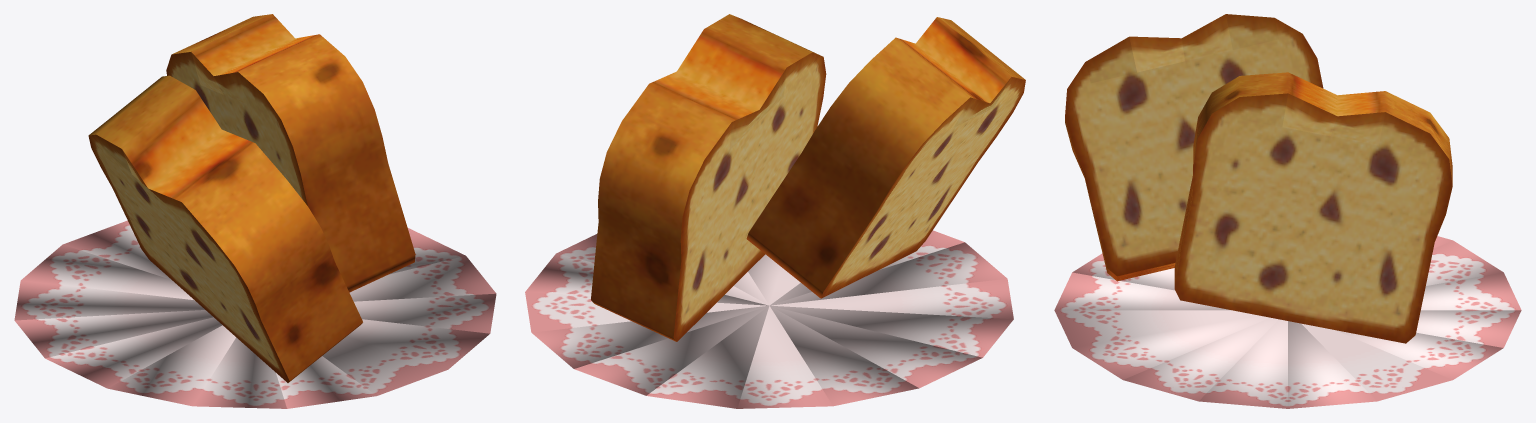
File: panque.glb
3 renders of one model, left to right at view 1: azimuth 30°, elevation 25°; view 2: azimuth 150°, elevation 25°; view 3: azimuth 270°, elevation 25°, orthographic. The views are drawn at different scales.
Visible parts, largest first — view 1: chocobananapoundcake_ma, lace03_ma; view 2: chocobananapoundcake_ma, lace03_ma; view 3: chocobananapoundcake_ma, lace03_ma.
Part boxes in pixels (x1,y1,x2,y2): chocobananapoundcake_ma: [88, 14, 415, 382]; lace03_ma: [14, 220, 496, 408]; chocobananapoundcake_ma: [591, 14, 1025, 341]; lace03_ma: [525, 230, 1013, 408]; chocobananapoundcake_ma: [1065, 14, 1452, 343]; lace03_ma: [1054, 236, 1521, 408].
Bounding box in the file's own units: 0.7701 × 0.4601 × 0.7701.
2 materials, 2 textured.
